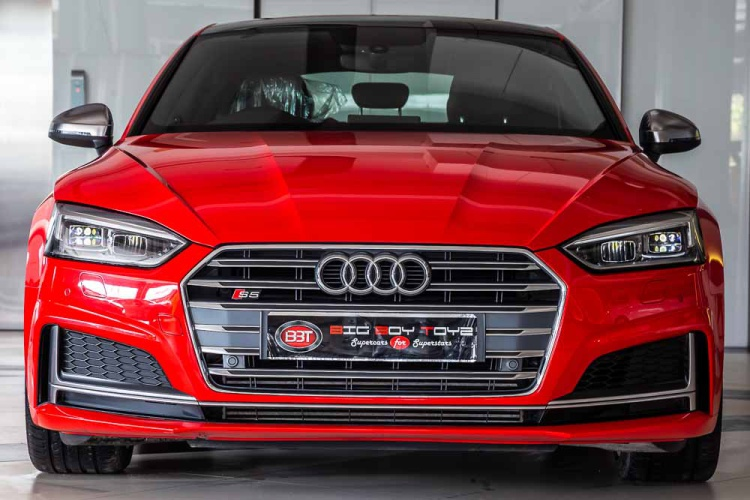audi: (310, 251, 437, 303)
